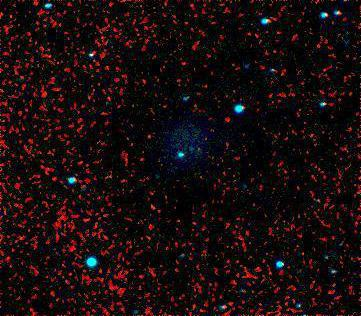star: (211, 105, 241, 135)
